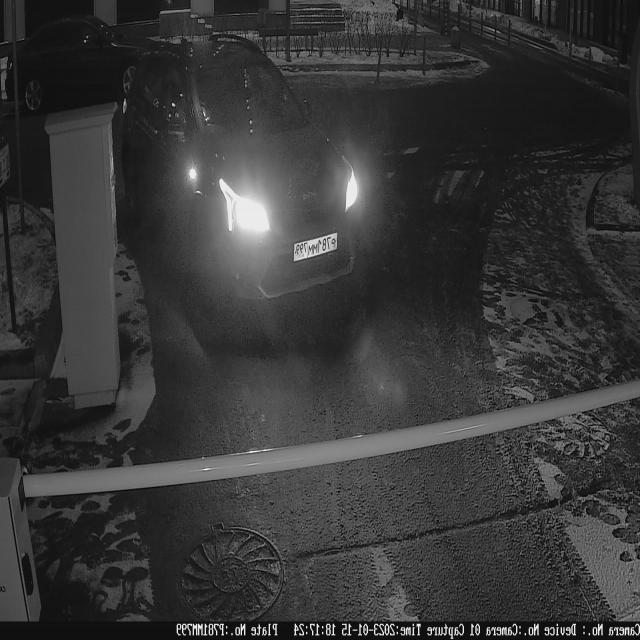car-plate-numbers: (292, 229, 341, 269)
